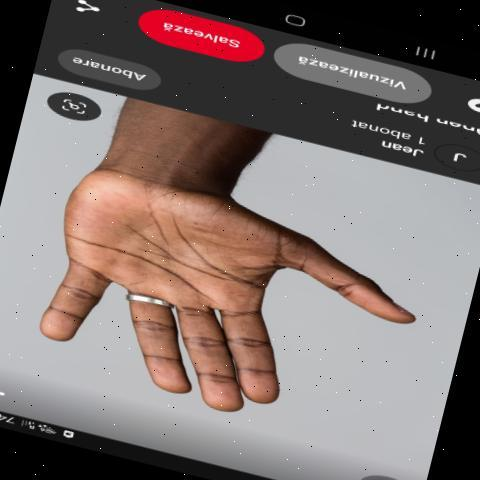Hands: (17, 163, 431, 453)
